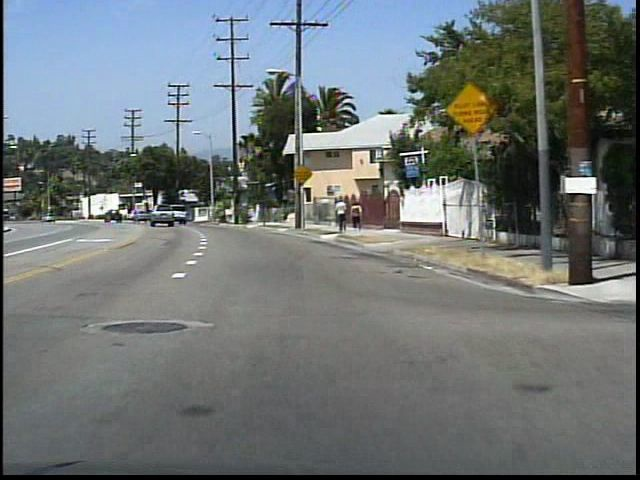person: (334, 196, 350, 235), (348, 201, 364, 233)
